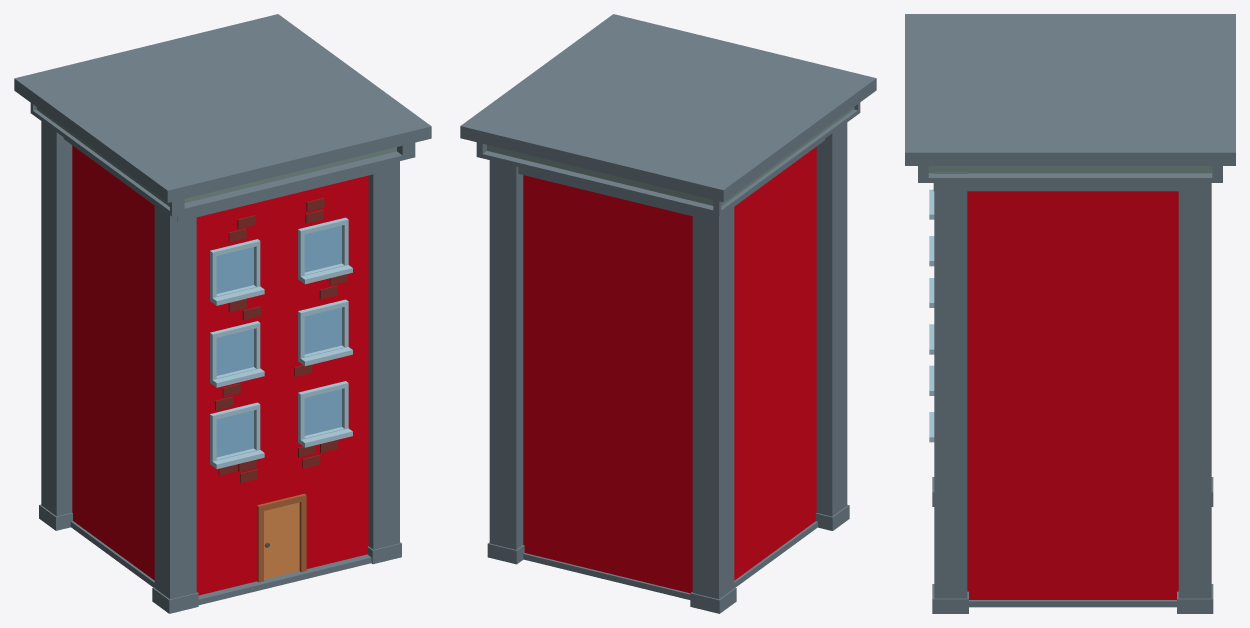
File: predio pet simulator.fbx
The picture shows the model from 3 angles, left to right: view 1: azimuth 30°, elevation 25°; view 2: azimuth 150°, elevation 25°; view 3: azimuth 270°, elevation 25°; orthographic projection. The views are drawn at different scales.
Visible parts, largest first — view 1: Cube.004, Cube.001, Cube.022, Cube.034, Cube.002, Cube, Cube.010, Cube.005, Cube.008, Cube.012, Cube.014, Cube.006 (+7 smaller); view 2: Cube.001, Cube.004, Cube.006, Cube.002; view 3: Cube.001, Cube.004, Cube.006, Cube.002.
Part boxes in pixels (box(x1,y1,x2,y2)): Cube.004: box(14, 14, 431, 613); Cube.001: box(72, 145, 368, 595); Cube.022: box(215, 198, 347, 482); Cube.034: box(264, 502, 299, 579); Cube.002: box(70, 522, 371, 605); Cube: box(210, 239, 264, 305); Cube.010: box(298, 299, 352, 366); Cube.005: box(298, 217, 352, 284); Cube.008: box(210, 321, 264, 387); Cube.012: box(210, 402, 264, 468); Cube.014: box(298, 381, 352, 447); Cube.006: box(36, 107, 396, 206); Cube.001: box(523, 146, 816, 593); Cube.004: box(460, 14, 876, 613); Cube.006: box(487, 107, 854, 206); Cube.002: box(523, 522, 817, 599); Cube.001: box(967, 191, 1178, 599); Cube.004: box(905, 14, 1235, 613); Cube.006: box(928, 166, 1212, 173); Cube.002: box(969, 601, 1176, 607).
Size of the model in its own units: 1103 by 1741 by 1111.
